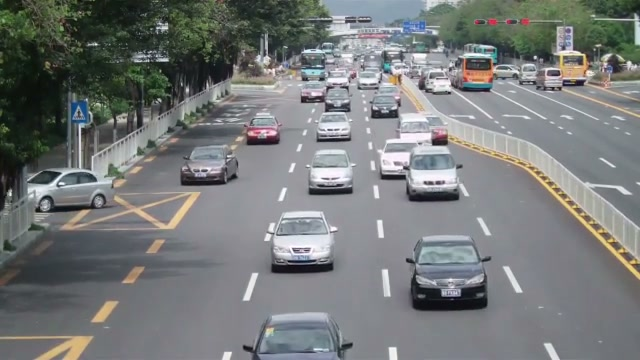car: (405, 234, 492, 310), (242, 312, 353, 359), (264, 210, 339, 273), (27, 168, 116, 212), (404, 144, 462, 202), (180, 144, 239, 185), (307, 148, 355, 195), (379, 138, 420, 179), (246, 114, 281, 145), (316, 111, 352, 141), (396, 117, 433, 146), (370, 94, 399, 119), (423, 70, 452, 95), (535, 68, 564, 92), (325, 88, 352, 111), (300, 81, 327, 103), (494, 64, 520, 80)
truck: (553, 51, 589, 86), (536, 68, 564, 92), (519, 63, 537, 85)
